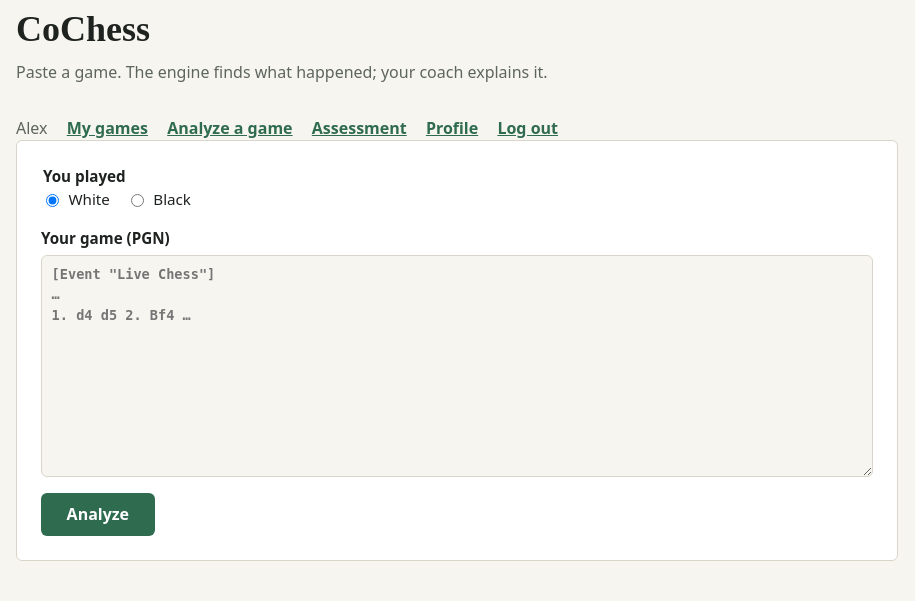
shows the server error when the PGN is rejected
Type "1. e4 e5 2. Nf3 *" into the text box labelled "Your game (PGN)" at coordinates (457, 366), box left=41, top=255, right=873, bottom=477
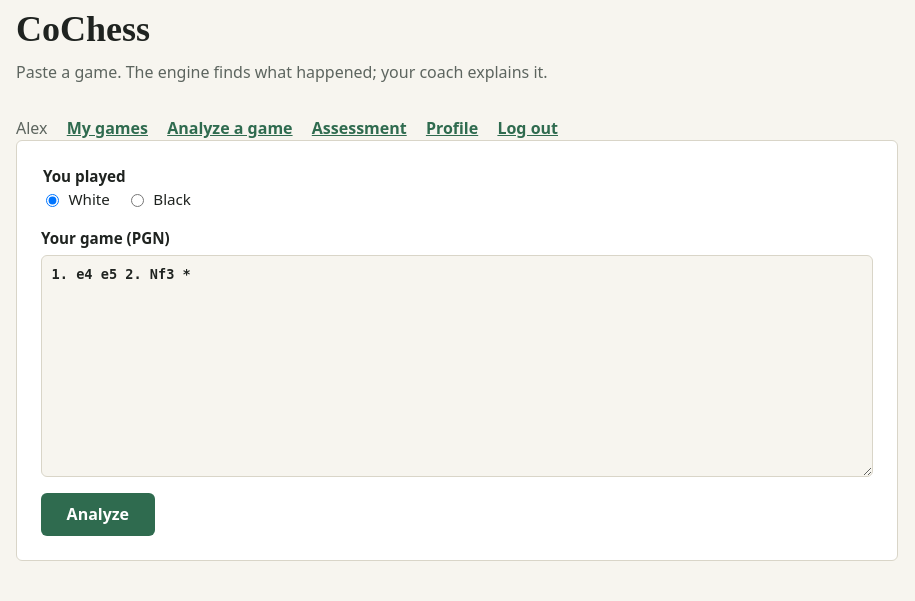
Click the button "Analyze" at coordinates (98, 514), box left=41, top=493, right=155, bottom=536
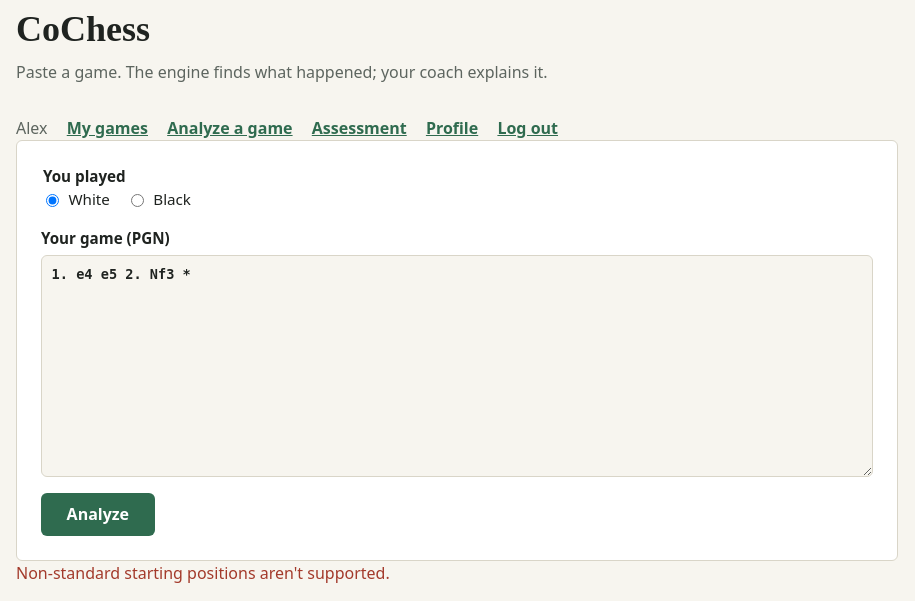
Expected: the message reads "Non-standard starting positions aren't supported.", left=16, top=562, right=390, bottom=584
